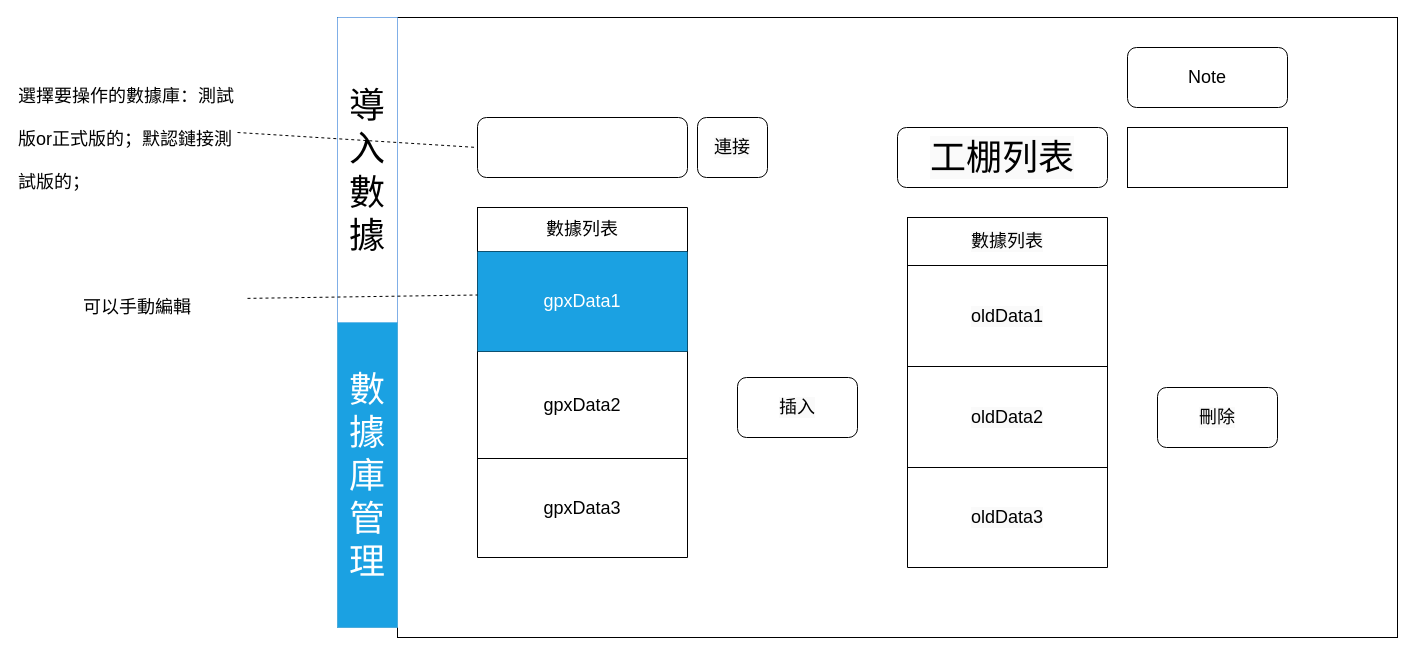
This 1415x655 diagram has some shape labels left out. Each missing label, with the centre of its shape:
"數據庫選項" belongs at point 582,147.
"輸入工棚" belongs at point 1207,157.
